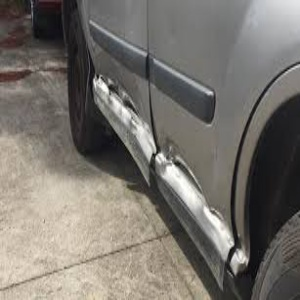door: (99, 95, 215, 216)
